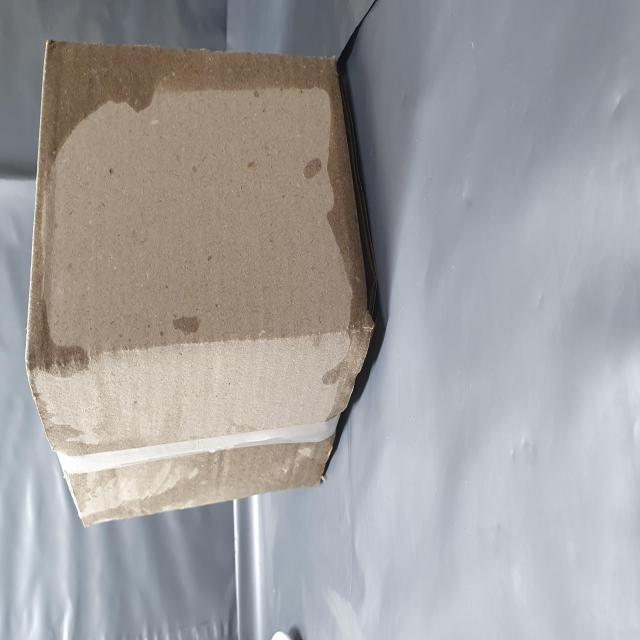wet: (260, 69, 338, 603)
